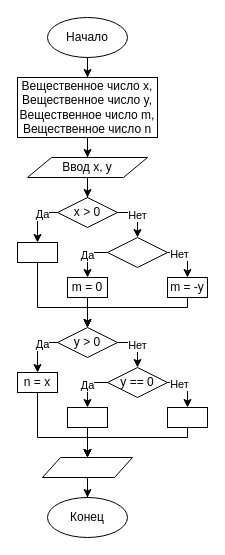
This 225x555 diagram has some shape labels left out. Here are the shapes that lost their labels. From the top down, the centre of each, then its label:
(x=37, y=252): m = y
(x=137, y=252): x == 0
(x=87, y=417): n = 0
(x=187, y=417): n = -x
(x=87, y=467): Вывод m+n
